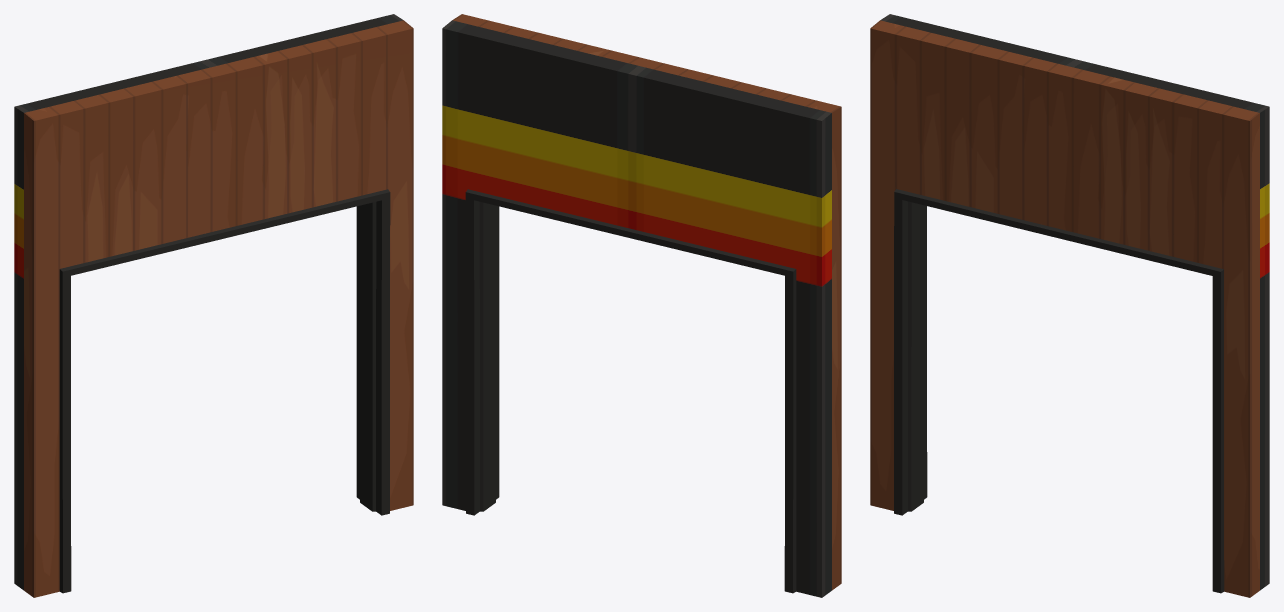
The model's file is SM_Bld_Base_Wall_Door_Double_01_286.obj.
3 renders of one model, left to right at view 1: azimuth 30°, elevation 25°; view 2: azimuth 150°, elevation 25°; view 3: azimuth 330°, elevation 25°, orthographic.
Parts seen in each view (by area): view 1: SM_Bld_Base_Wall_Door_Double_01_0, SM_Bld_Base_Wall_Door_Double_01_1, SM_Bld_Base_Wall_Door_Double_01_2; view 2: SM_Bld_Base_Wall_Door_Double_01_2, SM_Bld_Base_Wall_Door_Double_01_1, SM_Bld_Base_Wall_Door_Double_01_0; view 3: SM_Bld_Base_Wall_Door_Double_01_0, SM_Bld_Base_Wall_Door_Double_01_1, SM_Bld_Base_Wall_Door_Double_01_2.
Boxes of the visible parts, <box> form: SM_Bld_Base_Wall_Door_Double_01_0: <box>24,20,413,597</box>; SM_Bld_Base_Wall_Door_Double_01_1: <box>59,189,390,593</box>; SM_Bld_Base_Wall_Door_Double_01_2: <box>14,14,403,590</box>; SM_Bld_Base_Wall_Door_Double_01_2: <box>442,20,831,597</box>; SM_Bld_Base_Wall_Door_Double_01_1: <box>465,189,796,593</box>; SM_Bld_Base_Wall_Door_Double_01_0: <box>452,14,841,590</box>; SM_Bld_Base_Wall_Door_Double_01_0: <box>870,20,1259,597</box>; SM_Bld_Base_Wall_Door_Double_01_1: <box>894,189,1224,593</box>; SM_Bld_Base_Wall_Door_Double_01_2: <box>880,14,1269,590</box>.
Bounding box in the file's own units: 2.5 × 3.01 × 0.288.
3 materials, 3 textured.
